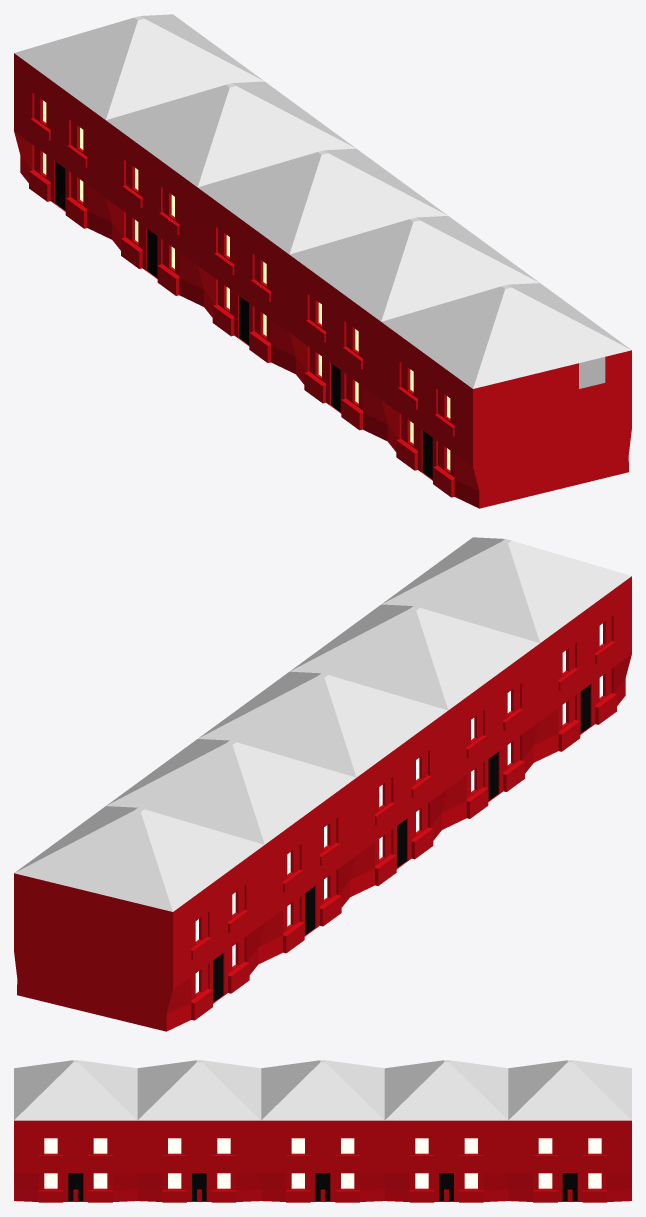
The model's file is two_storey_house_2.fbx.
3 views of the same model, one above another, from view 1: azimuth 30°, elevation 25°; view 2: azimuth 150°, elevation 25°; view 3: azimuth 270°, elevation 25° (orthographic). The views are drawn at different scales.
Parts seen in each view (by area): view 1: Cube; view 2: Cube; view 3: Cube.
Part boxes in pixels (left/top/right/bottom): Cube: left=14, top=14, right=631, bottom=508; Cube: left=14, top=537, right=631, bottom=1031; Cube: left=14, top=1060, right=631, bottom=1202.
Bounding box in the file's own units: 19.95 × 19.75 × 96.5.
